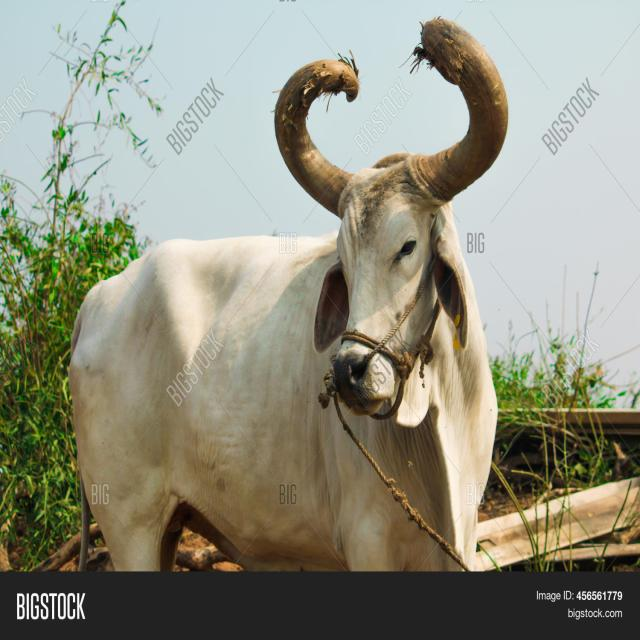Ox: (65, 16, 509, 572)
